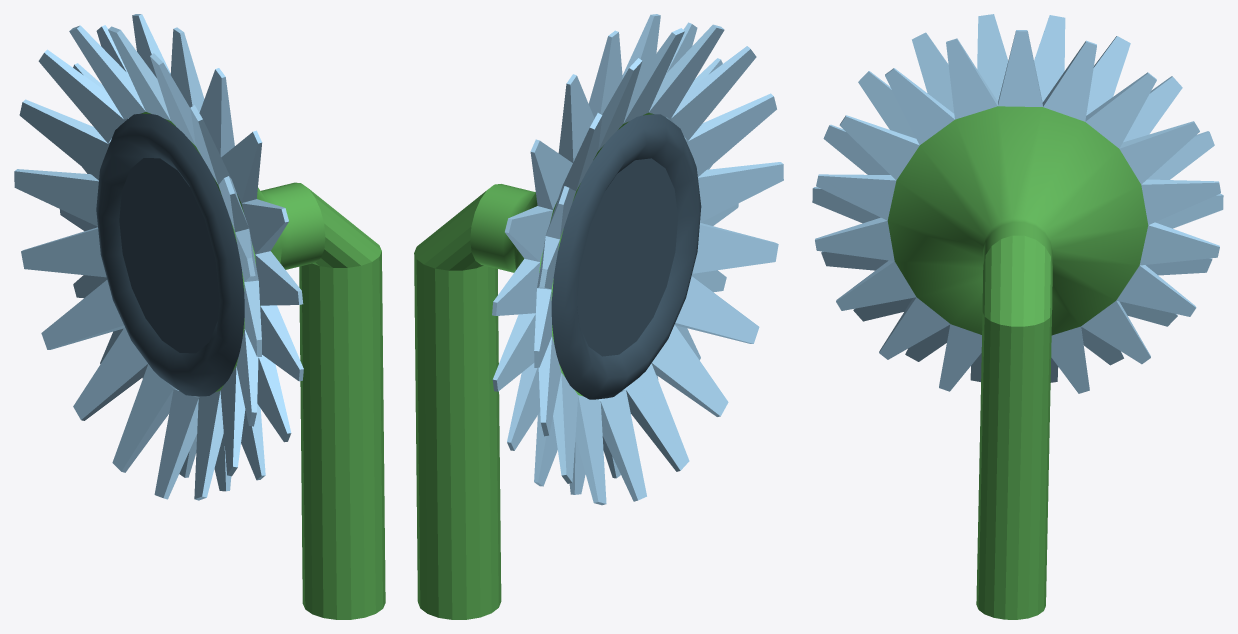
File: Sunflower.FBX
3 views of the same model, side by side, from view 1: azimuth 30°, elevation 25°; view 2: azimuth 150°, elevation 25°; view 3: azimuth 270°, elevation 25° (orthographic). The views are drawn at different scales.
Visible parts, largest first — view 1: Sunflower2ndLayer, Stem, Cylinder001, Sunflower1stLayer; view 2: Sunflower2ndLayer, Stem, Cylinder001, Sunflower1stLayer; view 3: Stem, Sunflower1stLayer, Sunflower2ndLayer.
Part boxes in pixels (box(x1,y1,x2,y2)): Sunflower2ndLayer: box(14, 25, 261, 500); Stem: box(141, 112, 385, 619); Cylinder001: box(96, 113, 244, 396); Sunflower1stLayer: box(59, 14, 303, 491); Sunflower2ndLayer: box(534, 24, 783, 505); Stem: box(414, 112, 653, 619); Cylinder001: box(551, 114, 701, 399); Sunflower1stLayer: box(492, 14, 738, 494); Stem: box(887, 106, 1148, 619); Sunflower1stLayer: box(815, 30, 1220, 393); Sunflower2ndLayer: box(812, 14, 1223, 382).
Size of the model in its own units: 14.14 by 34.26 by 25.01.
